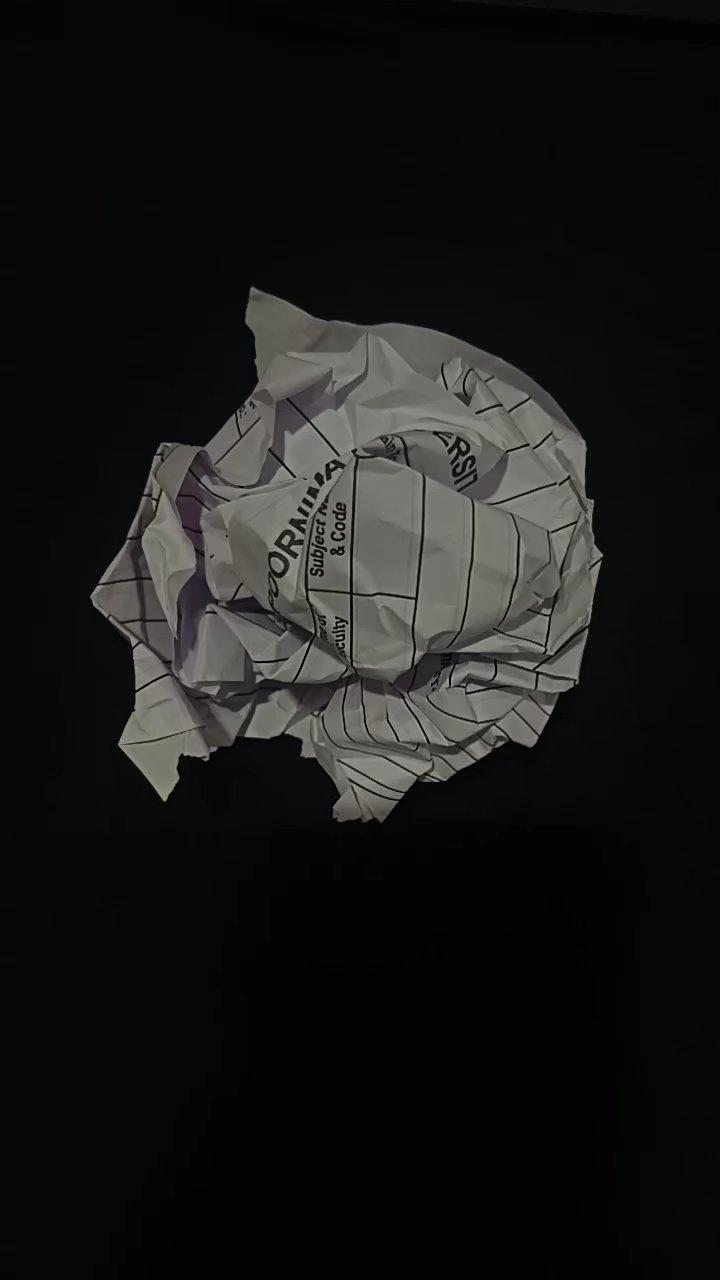PaperBall: (92, 291, 600, 819)
